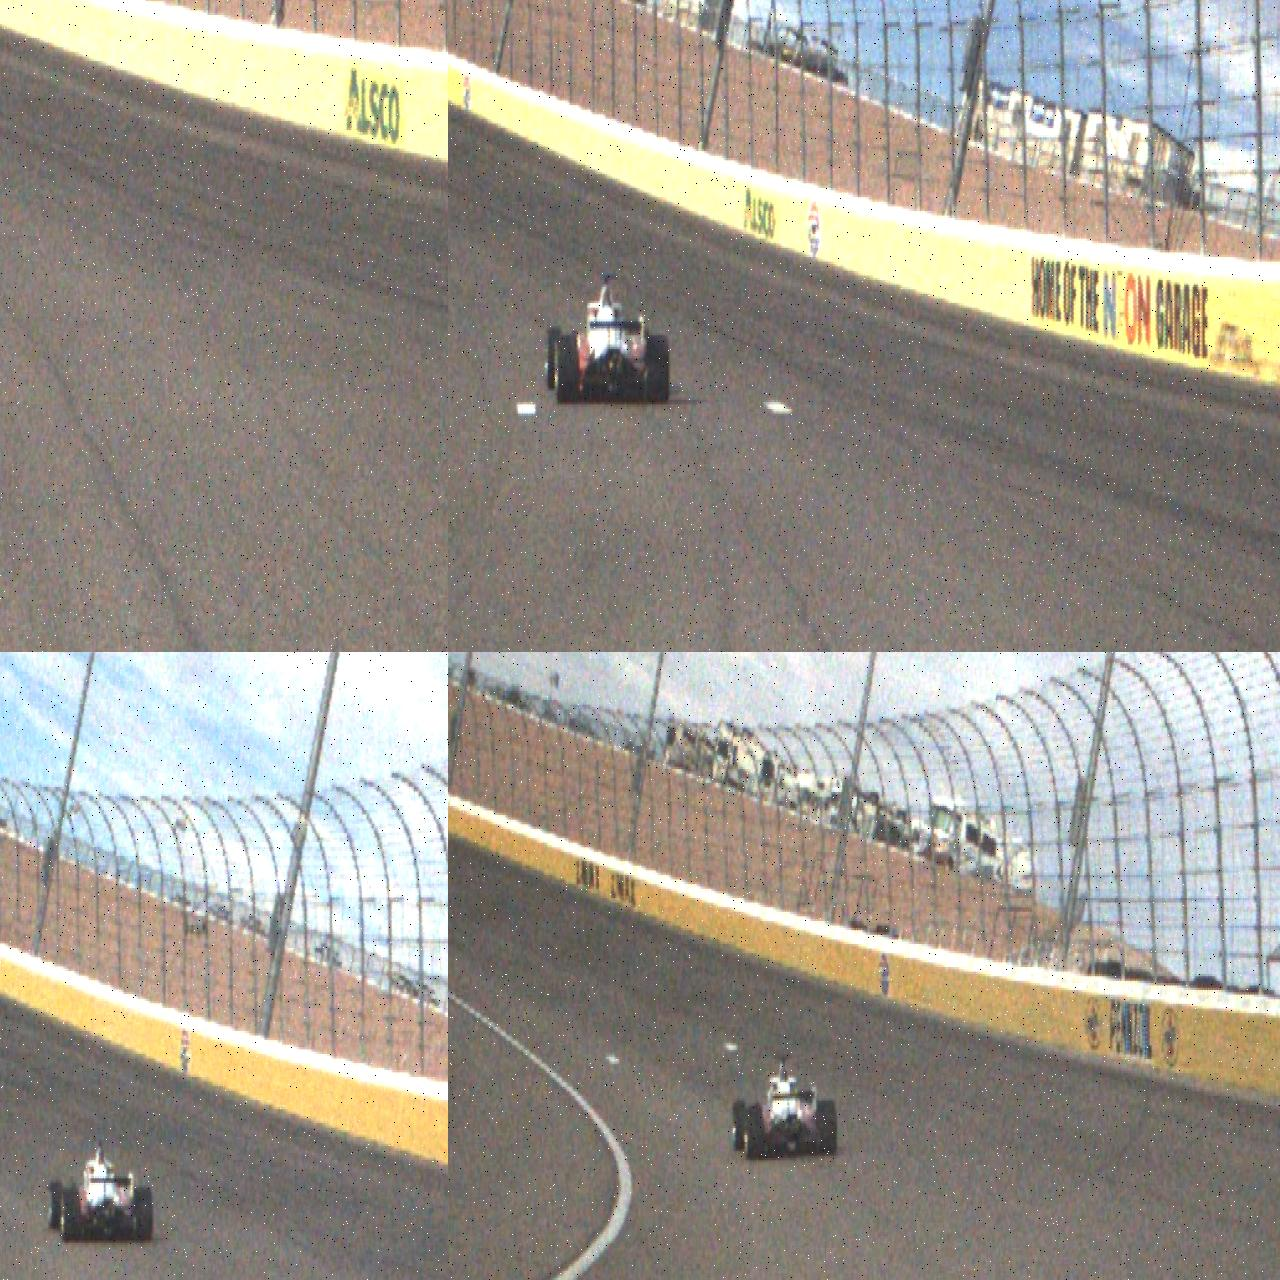AV: (546, 273, 670, 405), (48, 1136, 154, 1245), (732, 1054, 837, 1160)
Wheel: (556, 334, 578, 404), (648, 334, 668, 404), (134, 1187, 154, 1244), (62, 1188, 82, 1244), (547, 326, 563, 390), (744, 1104, 762, 1160), (819, 1100, 837, 1156), (732, 1100, 746, 1151), (48, 1182, 62, 1230)
